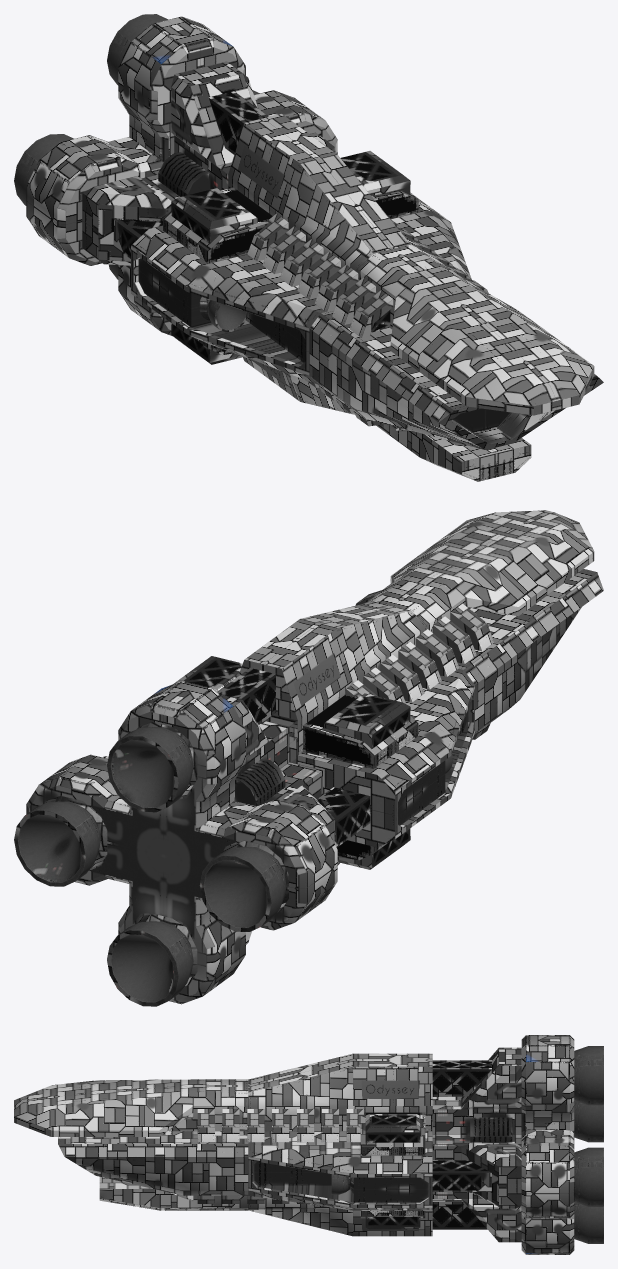
File: Odyssey.fbx
3 renders of one model, top to bottom at view 1: azimuth 30°, elevation 25°; view 2: azimuth 150°, elevation 25°; view 3: azimuth 270°, elevation 25°, orthographic. The views are drawn at different scales.
Parts seen in each view (by area): view 1: Odyssey_LOD0; view 2: Odyssey_LOD0; view 3: Odyssey_LOD0.
Boxes of the visible parts, box(x1,y1,x2,y2) form: Odyssey_LOD0: box(14, 14, 603, 481); Odyssey_LOD0: box(14, 510, 603, 1006); Odyssey_LOD0: box(14, 1035, 603, 1254).
Size of what is drawn, in the model's own units: 6548 by 6548 by 16731.
